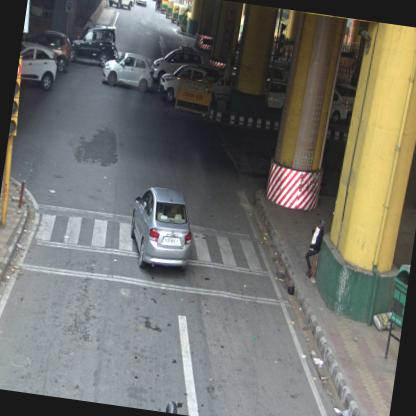car: (124, 182, 198, 276), (68, 18, 120, 68), (148, 46, 205, 90), (98, 50, 156, 92), (157, 62, 208, 106), (16, 42, 60, 92), (26, 28, 70, 74), (106, 0, 135, 13)
